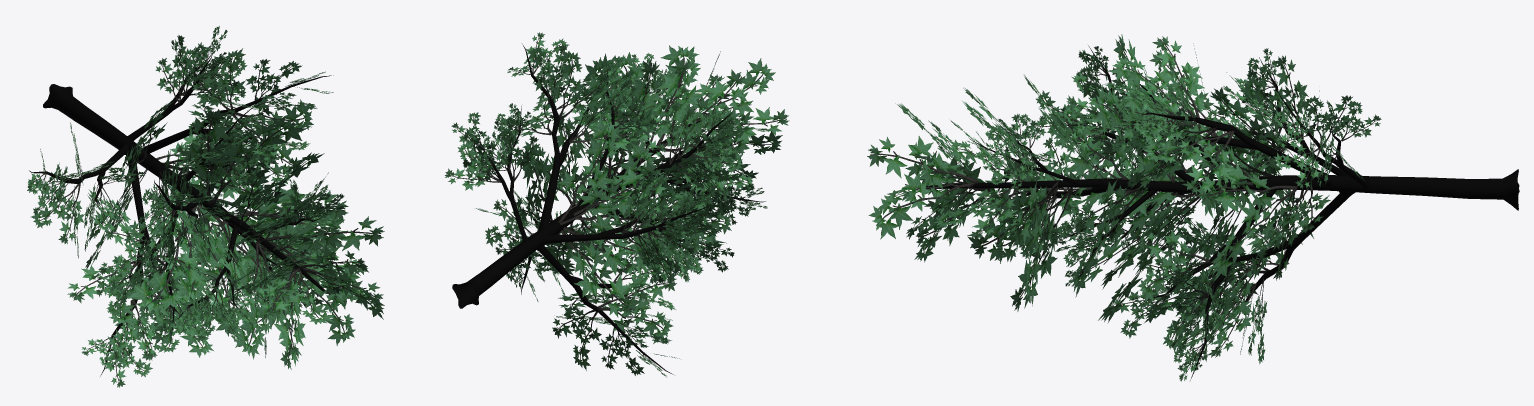
The model's file is AmericanSweetgum.fbx.
3 views of the same model, side by side, from view 1: azimuth 30°, elevation 25°; view 2: azimuth 150°, elevation 25°; view 3: azimuth 270°, elevation 25° (orthographic). The views are drawn at different scales.
Parts seen in each view (by area): view 1: TREE_AmericanSweetgum; view 2: TREE_AmericanSweetgum; view 3: TREE_AmericanSweetgum.
Boxes of the visible parts, x1,y1,x2,y2 form: TREE_AmericanSweetgum: (27,26,384,387); TREE_AmericanSweetgum: (445,32,789,377); TREE_AmericanSweetgum: (867,34,1519,381).
Size of the model in its own units: 642 by 748 by 1181.
